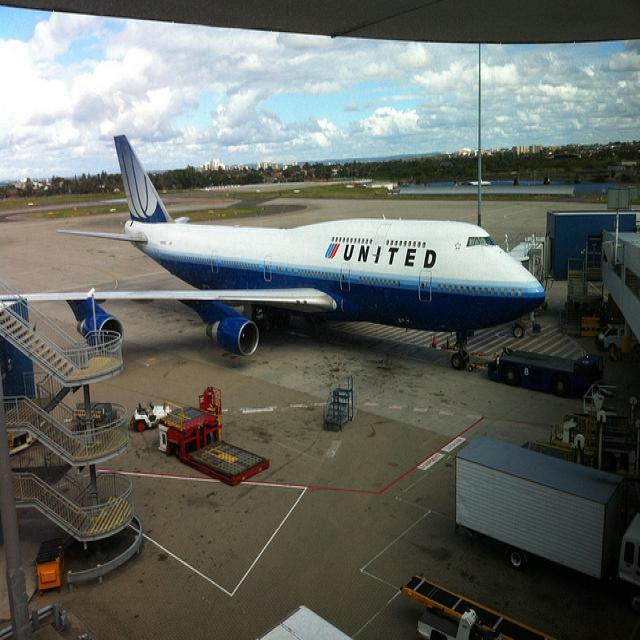Vehicle: (456, 435, 640, 613), (596, 324, 636, 354)
